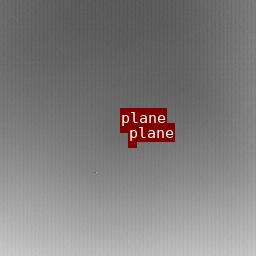plane: (120, 127, 132, 132), (128, 142, 136, 147)
